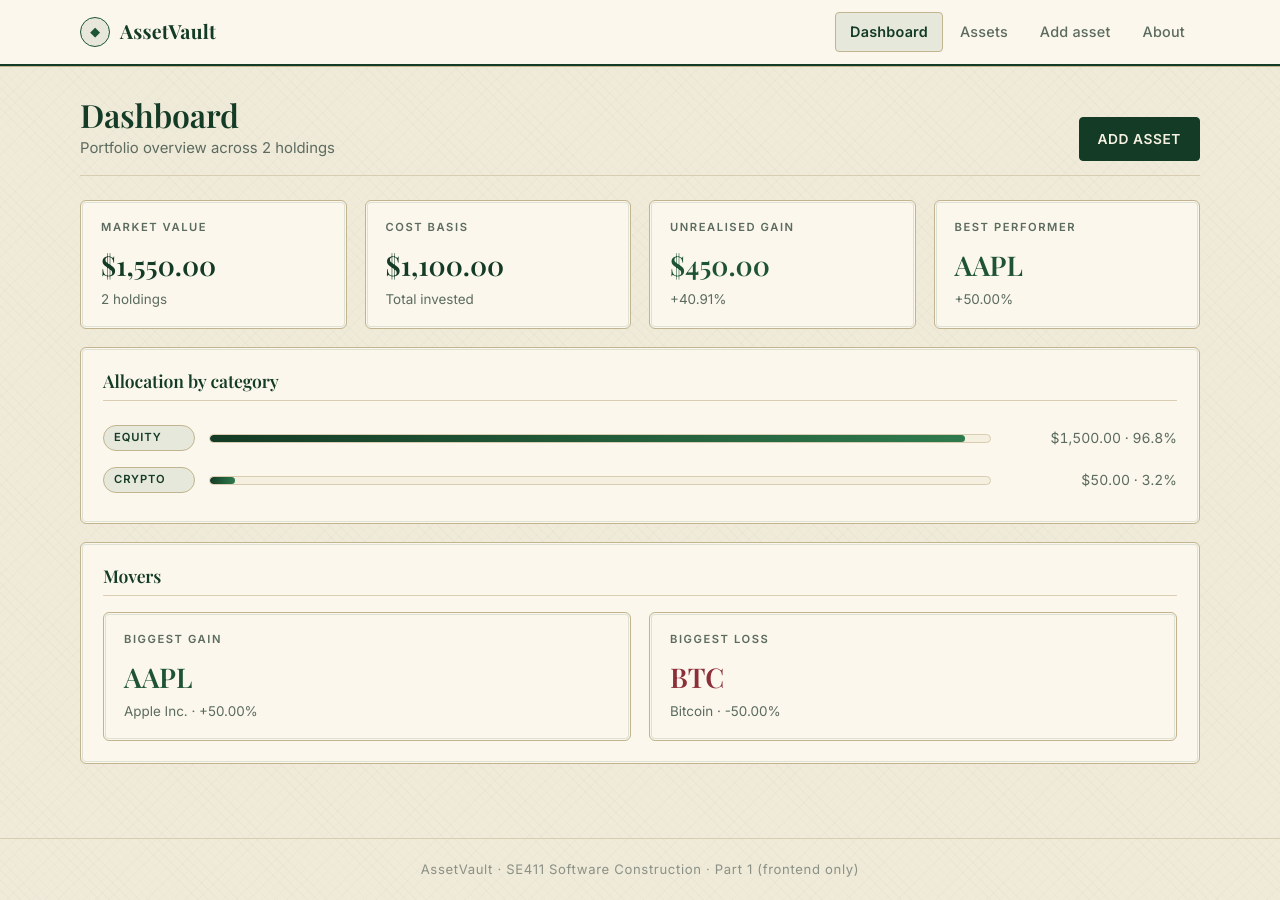
it: navigation › moves between features using the menu
expect the heading "Dashboard" is shown: met, box [80,93,239,136]
Click the link "Assets". click: (984,32)
box: [960,24,1008,40]
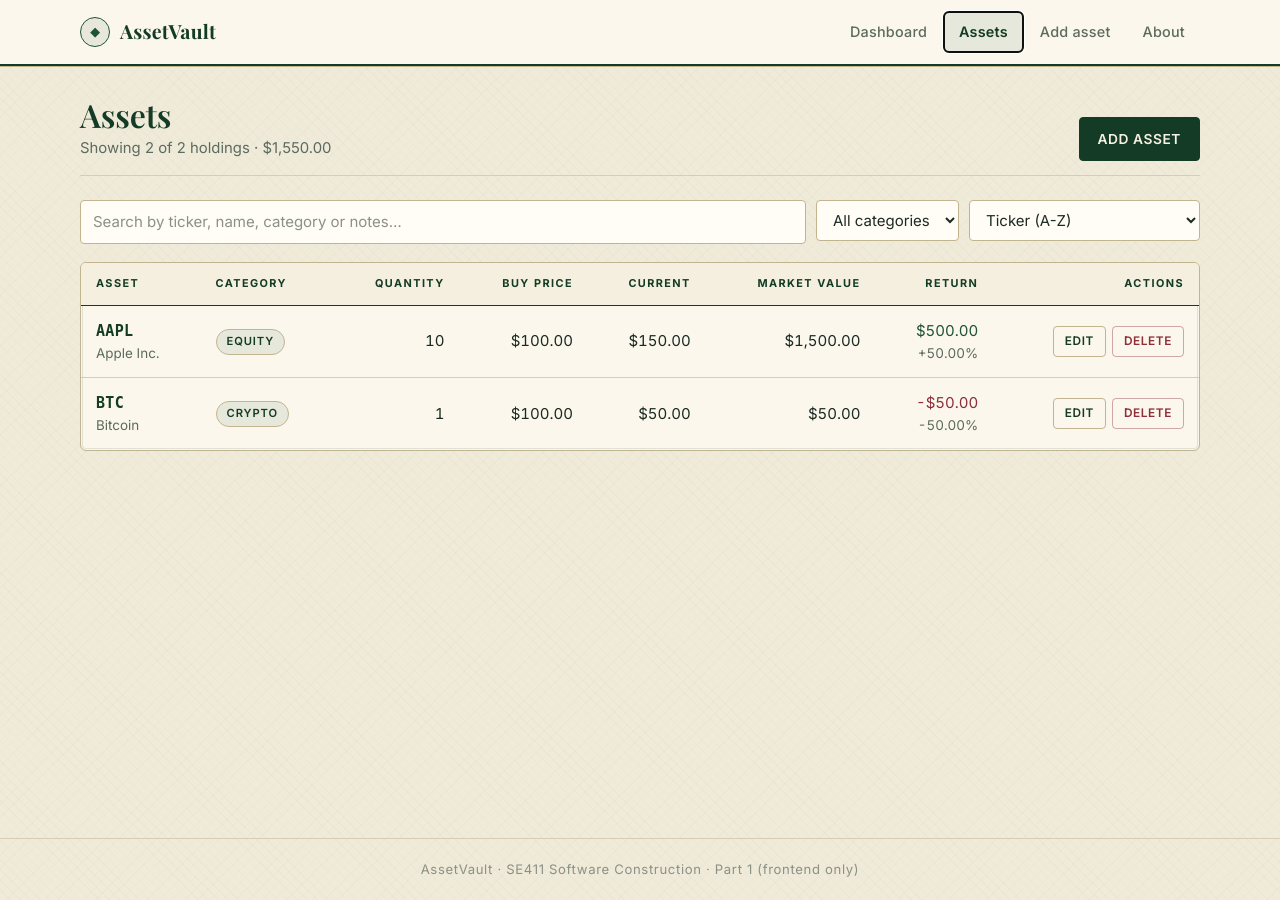
expect the heading "Assets" is shown: met, box [80,93,171,136]
Click the link "About". click: (1164,32)
box: [1143,24,1185,40]
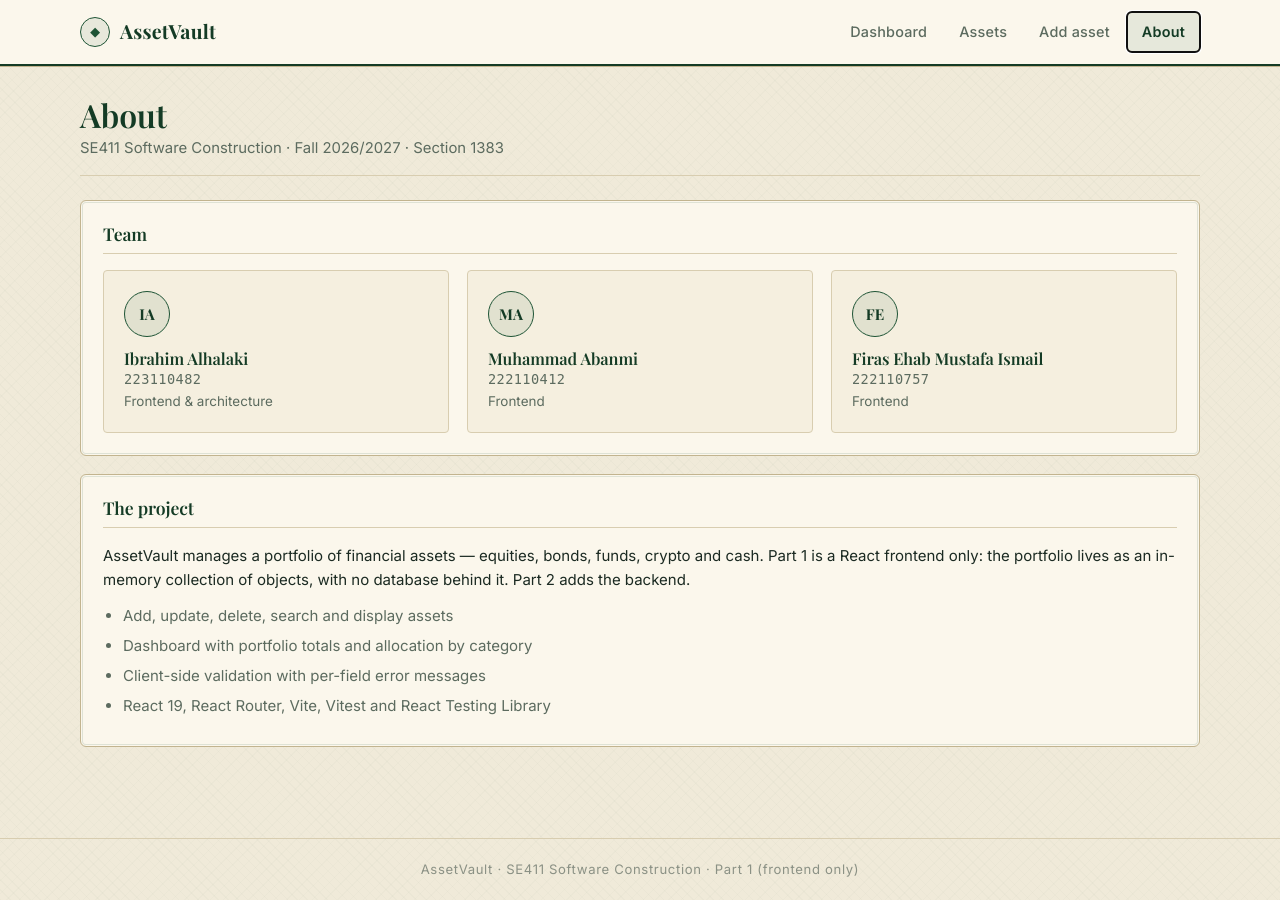
expect the heading "About" is shown: met, box [80,93,167,136]
